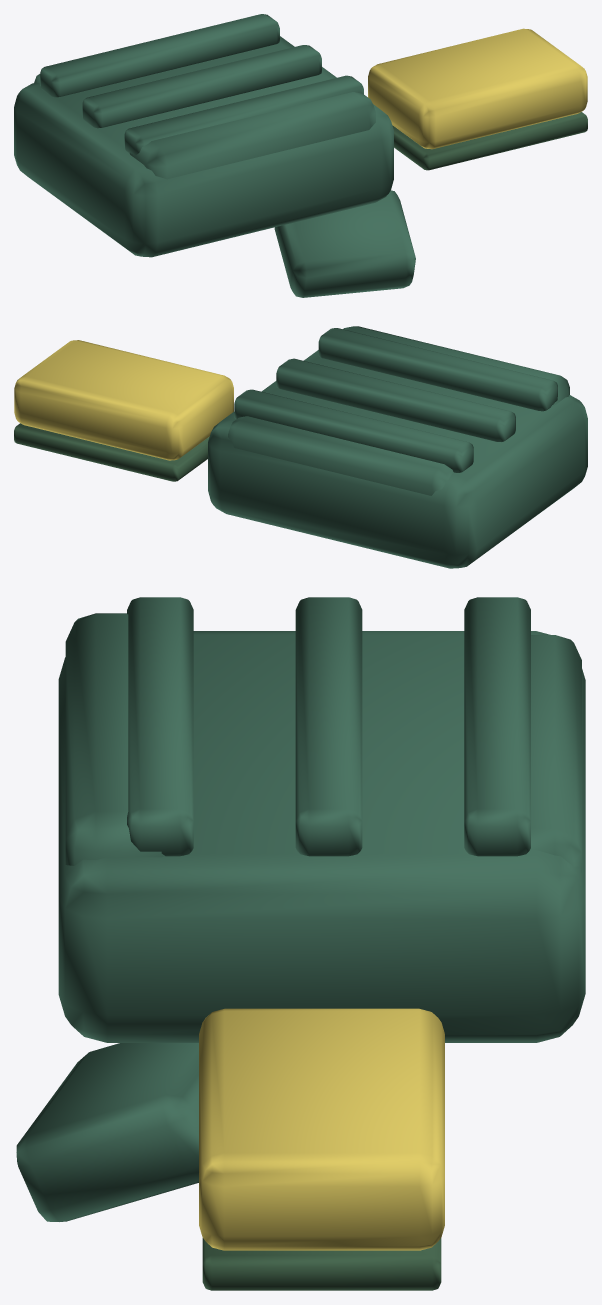
The model's file is asset_077_cleaning_cloth_and_sponge_set_fp.glb.
3 views of the same model, one above another, from view 1: azimuth 30°, elevation 25°; view 2: azimuth 150°, elevation 25°; view 3: azimuth 270°, elevation 25° (orthographic). The views are drawn at different scales.
Parts seen in each view (by area): view 1: MESH_ClothBody, MESH_SpongeFoam, MESH_ClothCornerFlap, MESH_ClothFoldA, MESH_ClothRidge2, MESH_ClothRidge1, MESH_ClothRidge0, MESH_SpongeScourPad; view 2: MESH_ClothBody, MESH_SpongeFoam, MESH_ClothRidge1, MESH_ClothRidge0, MESH_ClothFoldB, MESH_ClothRidge2, MESH_SpongeScourPad, MESH_ClothFoldA; view 3: MESH_ClothBody, MESH_SpongeFoam, MESH_ClothCornerFlap, MESH_ClothRidge1, MESH_ClothRidge2, MESH_ClothRidge0, MESH_ClothFoldA, MESH_ClothFoldB, MESH_SpongeScourPad.
Boxes of the visible parts, x1,y1,x2,y2 form: MESH_ClothBody: [14, 36, 393, 257]; MESH_SpongeFoam: [368, 28, 587, 149]; MESH_ClothCornerFlap: [274, 190, 415, 297]; MESH_ClothFoldA: [129, 92, 375, 179]; MESH_ClothRidge2: [40, 14, 279, 97]; MESH_ClothRidge1: [82, 45, 321, 128]; MESH_ClothRidge0: [124, 75, 363, 155]; MESH_SpongeScourPad: [392, 112, 587, 170]; MESH_ClothBody: [208, 350, 587, 568]; MESH_SpongeFoam: [14, 340, 233, 460]; MESH_ClothRidge1: [276, 358, 515, 441]; MESH_ClothRidge0: [318, 328, 557, 411]; MESH_ClothFoldB: [228, 416, 453, 495]; MESH_ClothRidge2: [234, 389, 473, 472]; MESH_SpongeScourPad: [14, 423, 209, 481]; MESH_ClothFoldA: [343, 326, 569, 407]; MESH_ClothBody: [58, 631, 585, 1042]; MESH_SpongeFoam: [199, 1008, 444, 1250]; MESH_ClothCornerFlap: [16, 1043, 198, 1221]; MESH_ClothRidge1: [295, 597, 362, 856]; MESH_ClothRidge2: [464, 597, 530, 856]; MESH_ClothRidge0: [127, 597, 193, 856]; MESH_ClothFoldA: [65, 613, 164, 865]; MESH_ClothFoldB: [530, 635, 581, 872]; MESH_SpongeScourPad: [202, 1238, 441, 1290].
Bounding box in the file's own units: 0.3225 × 0.122 × 0.162.
